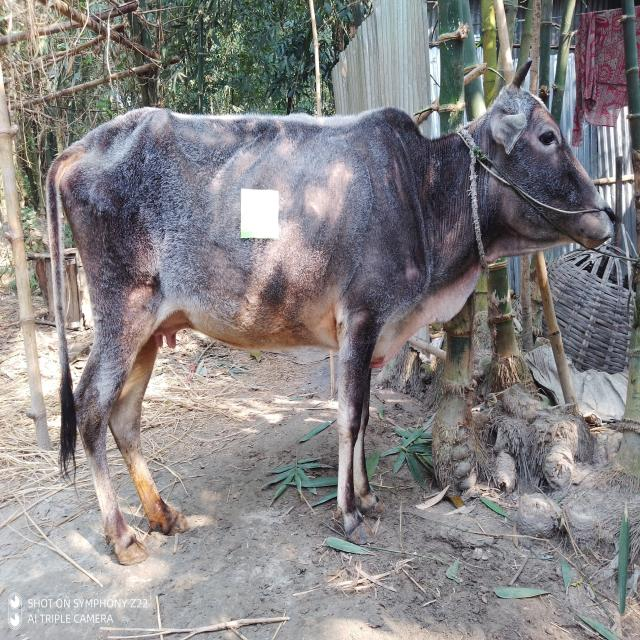badan_sapi: (66, 114, 383, 348)
sapi: (44, 61, 620, 574)
